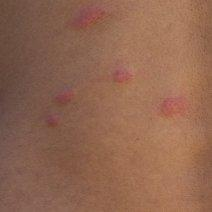Fleas: (158, 94, 187, 117), (112, 65, 134, 85), (56, 85, 76, 106), (47, 113, 58, 127)
